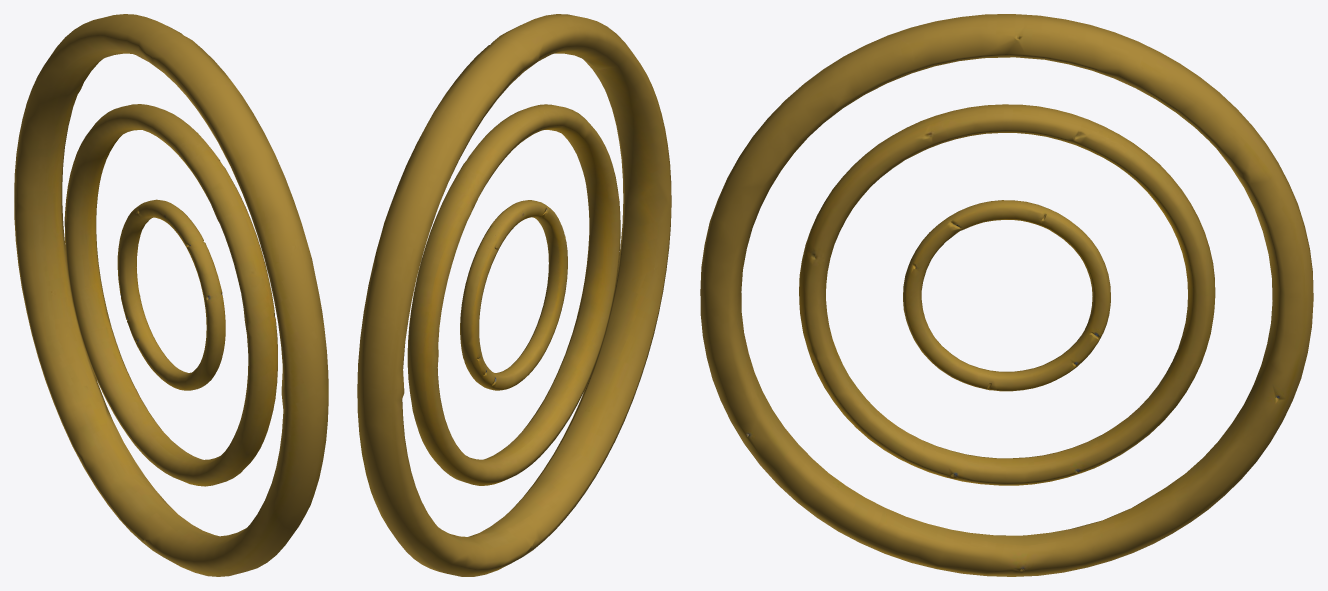
3 views of the same model, side by side, from view 1: azimuth 30°, elevation 25°; view 2: azimuth 150°, elevation 25°; view 3: azimuth 270°, elevation 25° (orthographic). The views are drawn at different scales.
Bounding box in the file's own units: 0.0894 × 0.9995 × 0.9995.
Materials: 1 (1 with a texture image).
